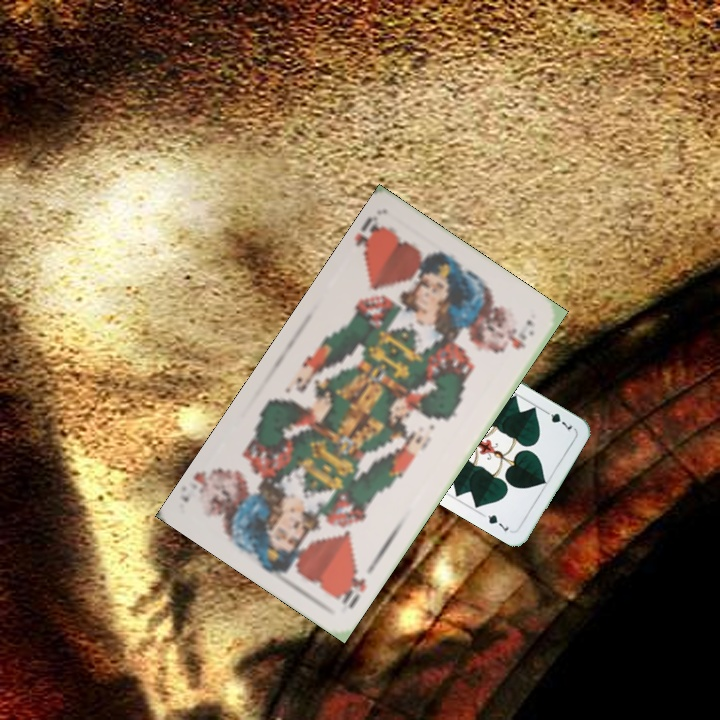G7: (539, 406, 575, 434)
HO: (351, 211, 389, 263), (333, 565, 369, 612)
